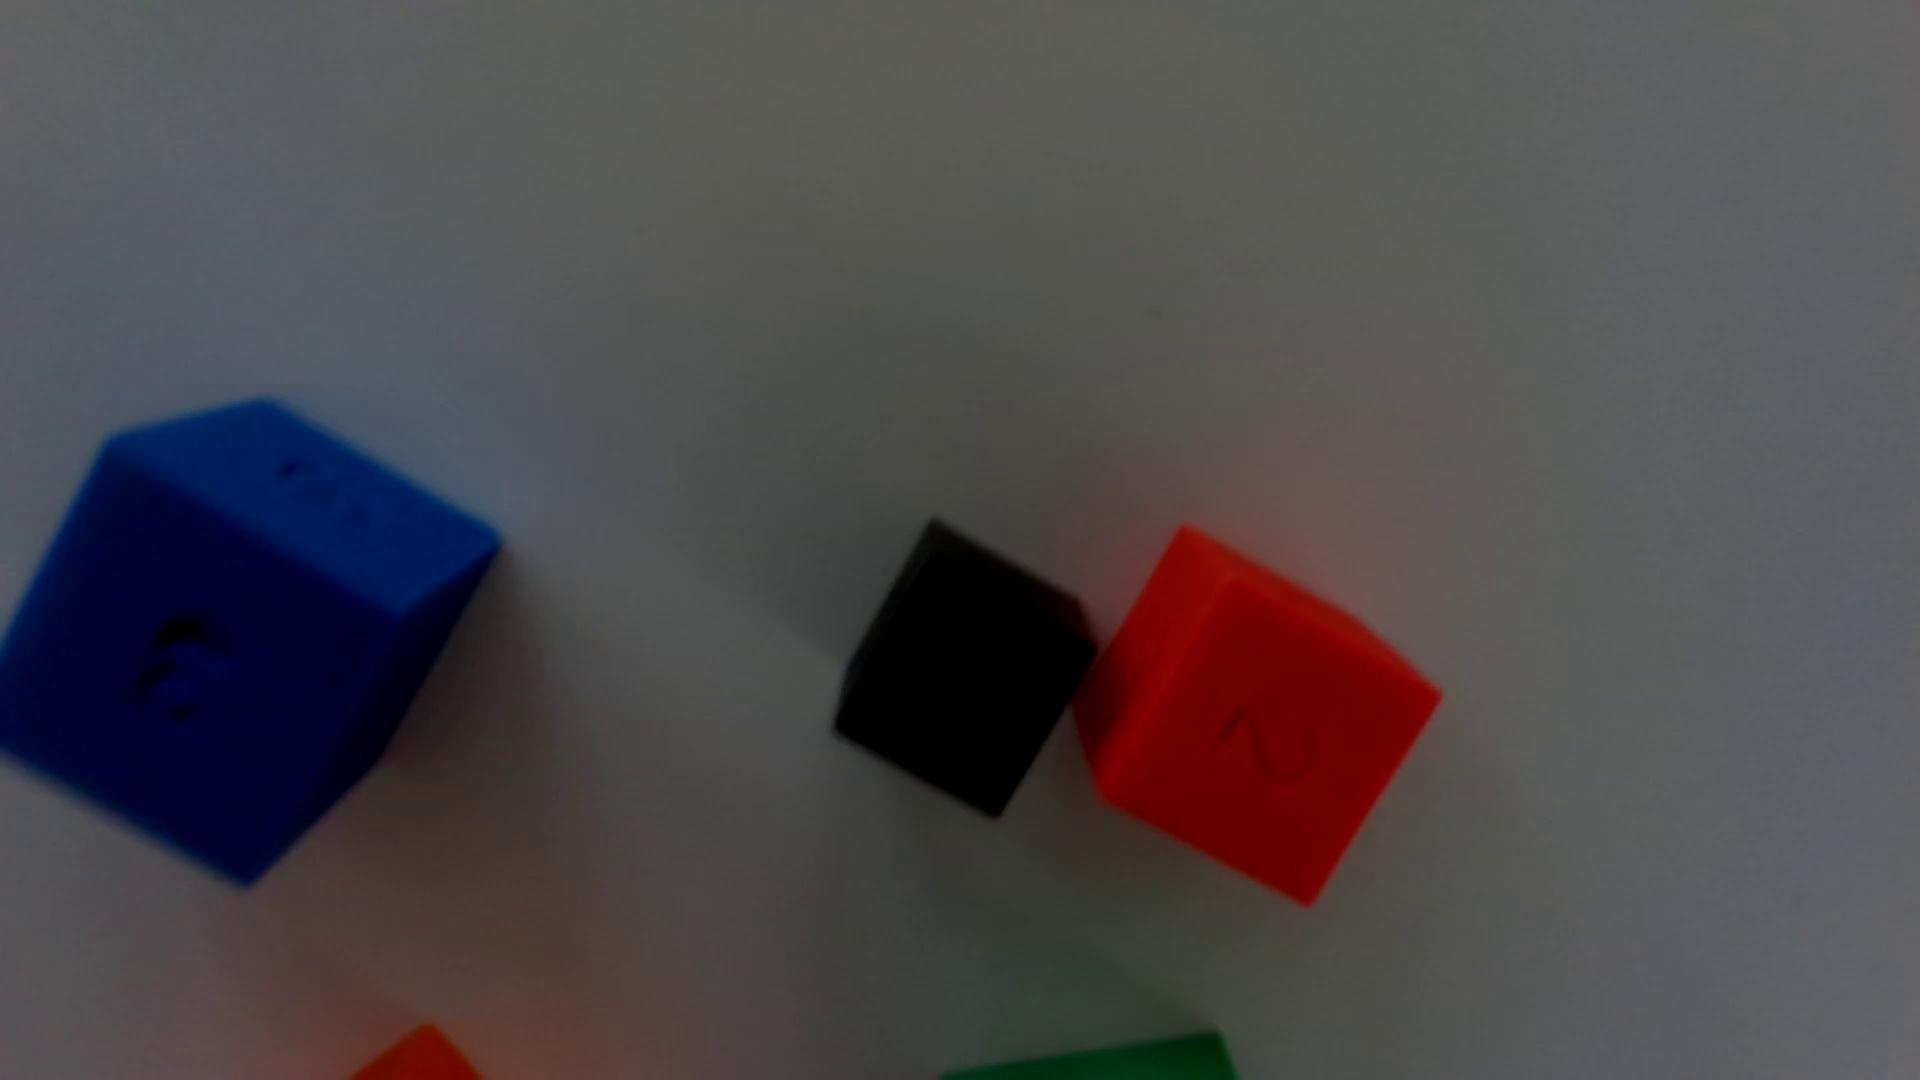black: (833, 521, 1097, 816)
blue: (0, 400, 498, 885)
green: (943, 1033, 1237, 1080)
orange: (351, 1025, 481, 1080)
red: (1075, 527, 1440, 905)
